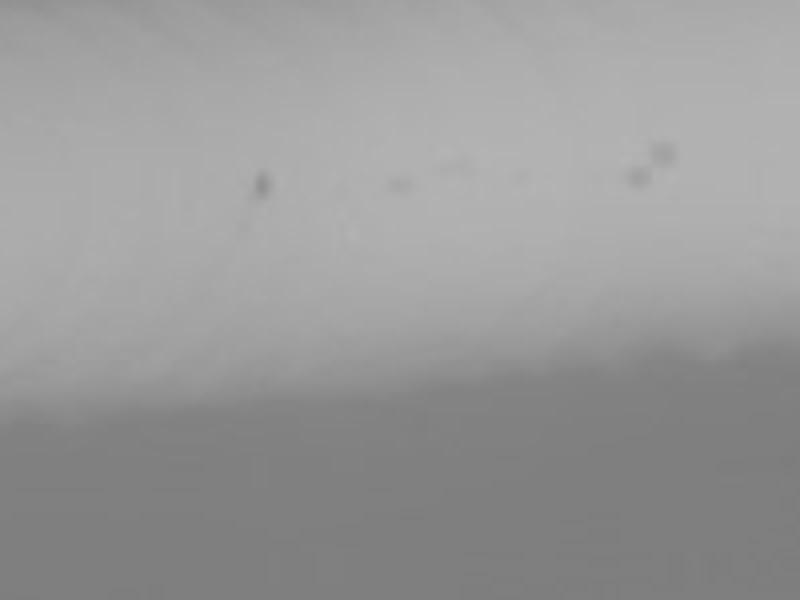defect: (651, 137, 680, 171), (388, 173, 415, 192), (253, 171, 270, 201), (628, 163, 648, 188)
